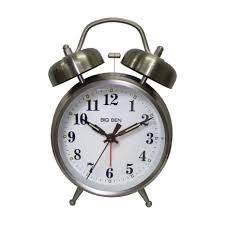alarm_clock: (47, 11, 178, 206), (57, 11, 178, 206)
